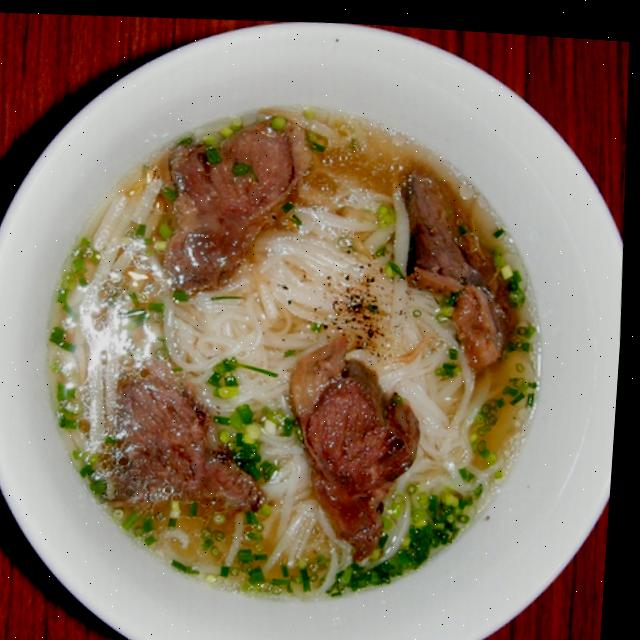面条主食: (0, 33, 638, 640)
